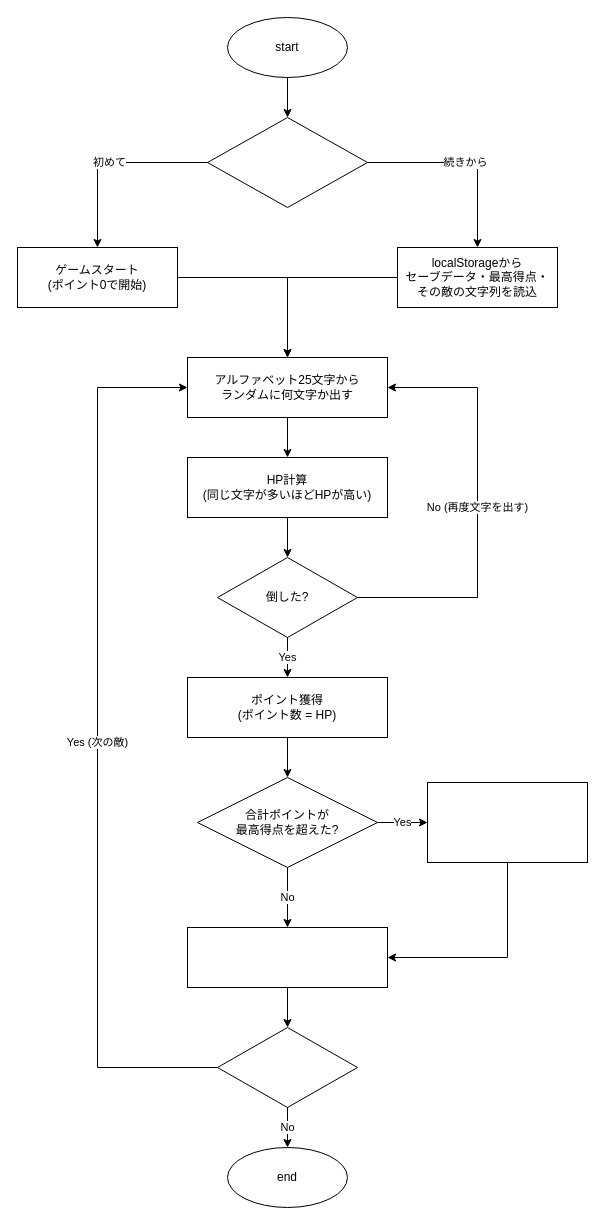
Image size: 605x1225. Some labels were removed from this diagram. The box of each missing label's shape, as (x1, y1, x2, y2) in pixels:
localStorageに保存 (ポイント・最高得点・ その敵の文字列 / 1回終わるごと): (186, 926, 388, 988)
初めて? 続きから?: (206, 116, 368, 208)
最高得点と その敵の文字列を更新: (426, 782, 588, 862)
続ける?: (216, 1026, 358, 1108)
